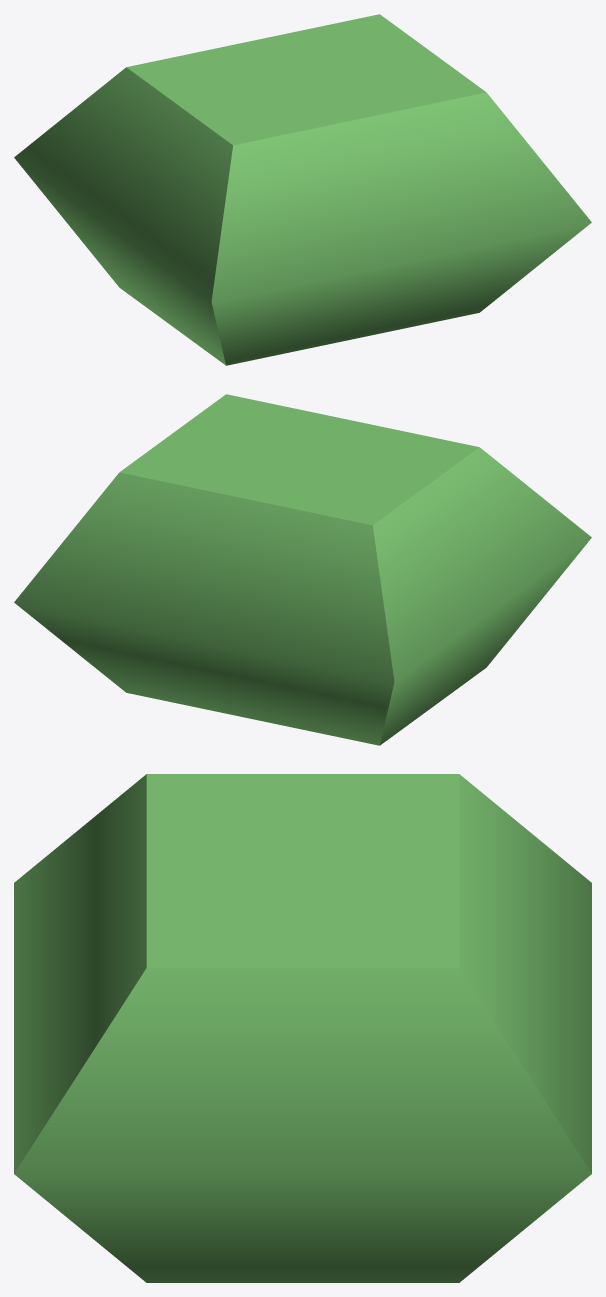
The model's file is BURGER_PACKAGED5.fbx.
The picture shows the model from 3 angles, top to bottom: view 1: azimuth 30°, elevation 25°; view 2: azimuth 150°, elevation 25°; view 3: azimuth 270°, elevation 25°; orthographic projection. The views are drawn at different scales.
Visible parts, largest first — view 1: BIURGER_CONTAINER; view 2: BIURGER_CONTAINER; view 3: BIURGER_CONTAINER.
Boxes of the visible parts, <box> form: BIURGER_CONTAINER: <box>14,14,591,365</box>; BIURGER_CONTAINER: <box>14,394,591,745</box>; BIURGER_CONTAINER: <box>14,774,591,1282</box>.
Size of the model in its own units: 3.84 by 2.2 by 3.45.
